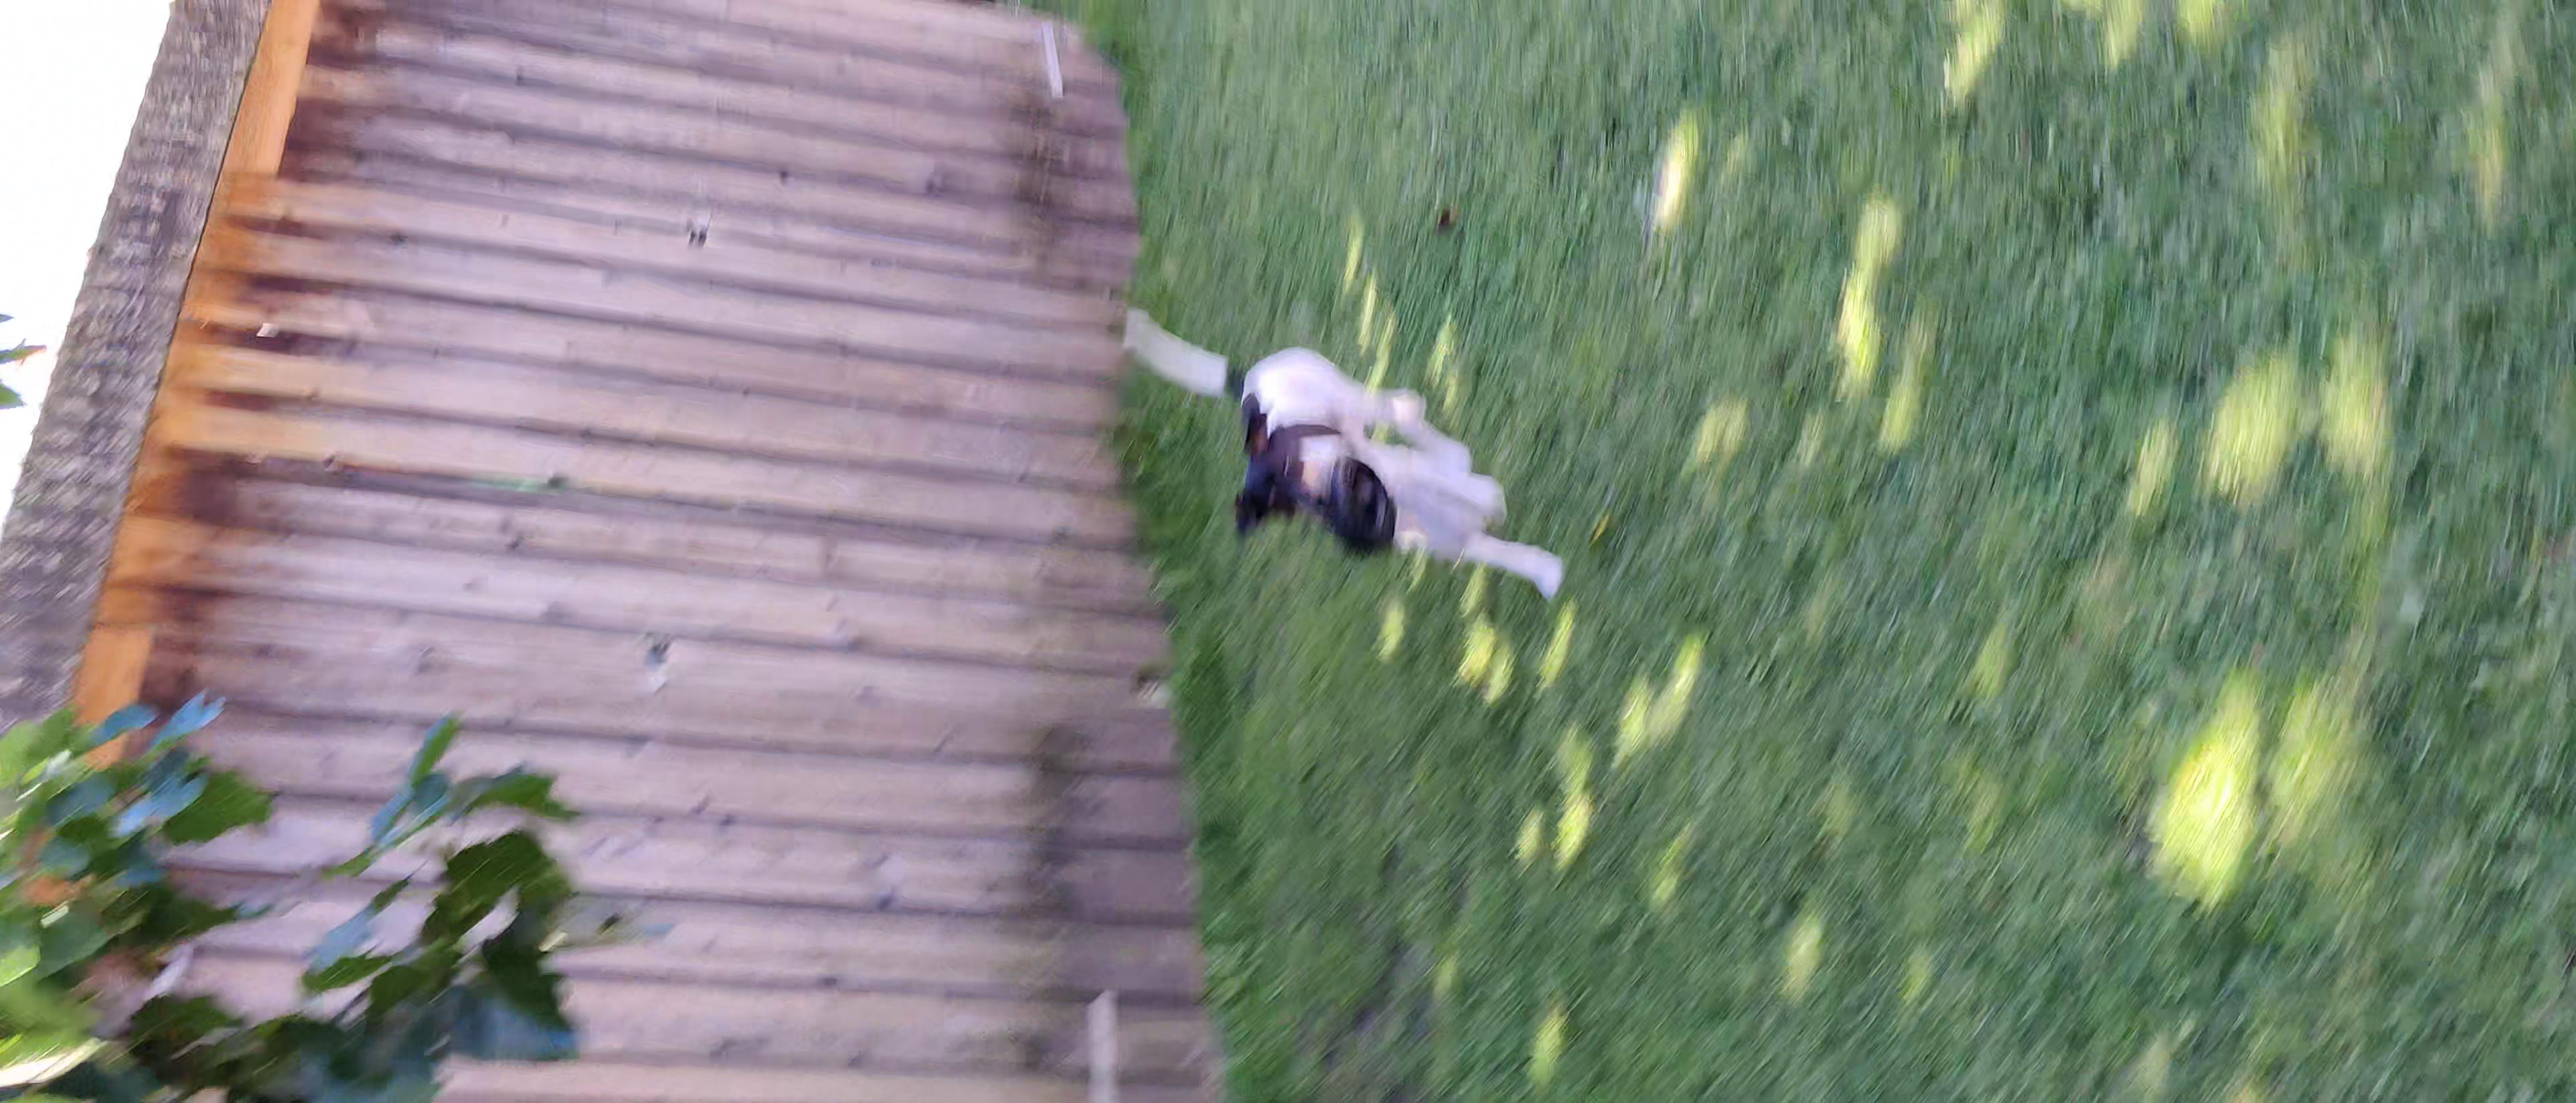Dog: (1115, 299, 1566, 598)
